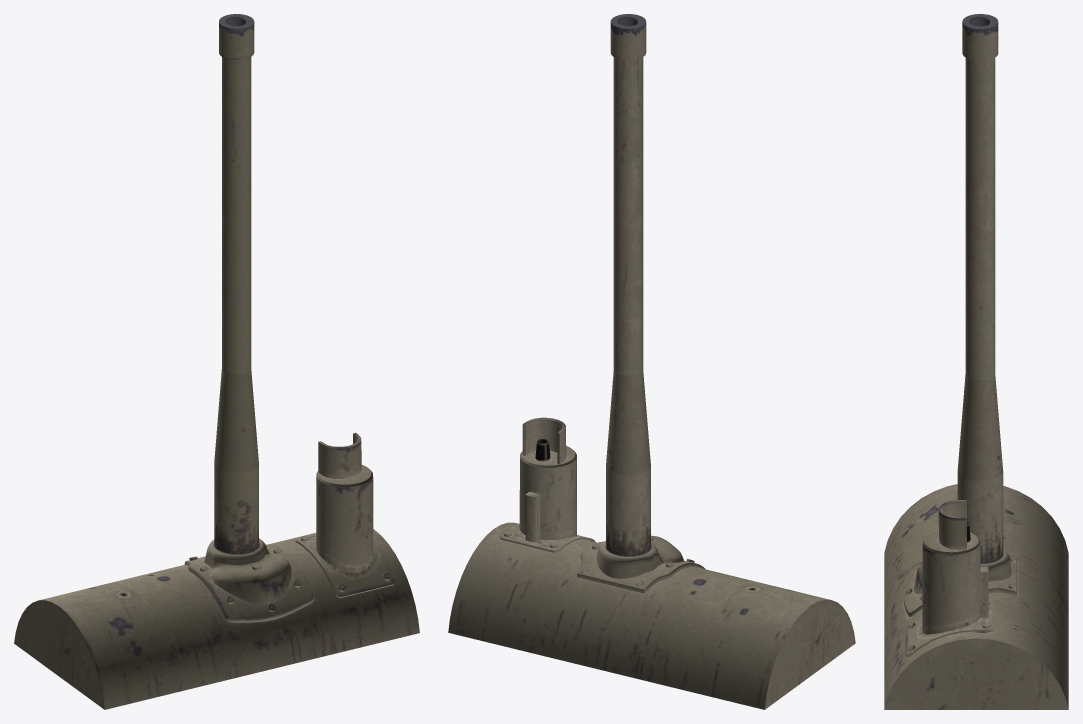
Rendered from Gun_01.glb.
3 views of the same model, side by side, from view 1: azimuth 30°, elevation 25°; view 2: azimuth 150°, elevation 25°; view 3: azimuth 270°, elevation 25° (orthographic).
Parts seen in each view (by area): view 1: set_0_group_0; view 2: set_0_group_0; view 3: set_0_group_0.
Boxes of the visible parts, <box> form: set_0_group_0: <box>14,14,419,709</box>; set_0_group_0: <box>448,14,855,709</box>; set_0_group_0: <box>884,14,1068,709</box>.
Size of the model in its own units: 0.8321 by 1.54 by 0.4147.
Materials: 1 (1 with a texture image).
